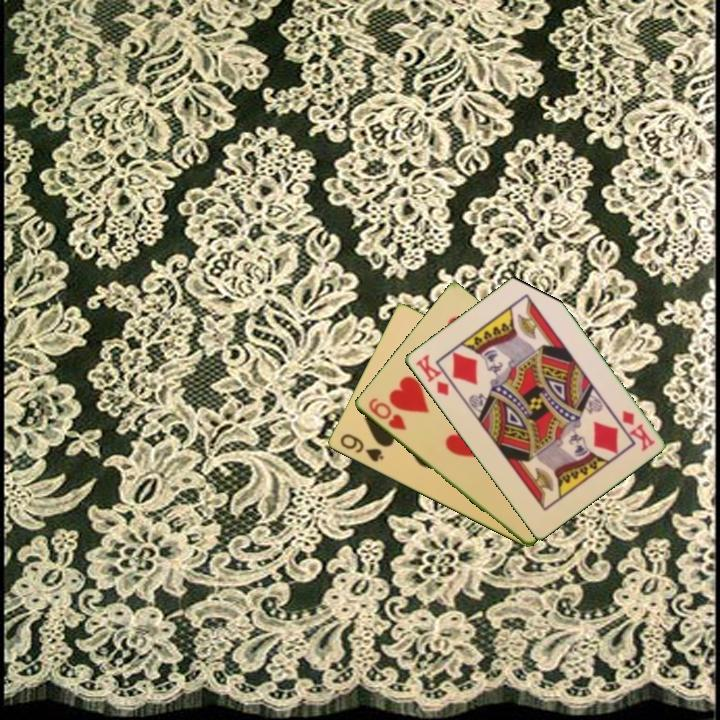6h: (364, 394, 409, 434)
9s: (336, 430, 386, 465)
Kd: (412, 351, 452, 399), (618, 407, 658, 454)
